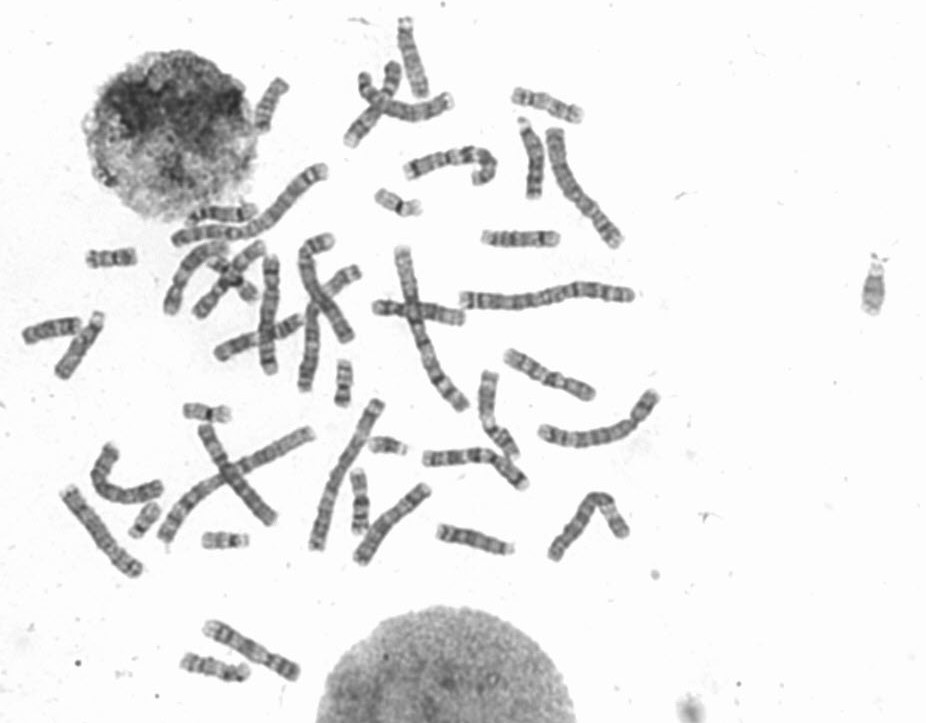chromosomes: (158, 426, 320, 544), (388, 240, 473, 420), (170, 159, 337, 249), (305, 395, 390, 558), (543, 125, 632, 254), (290, 262, 364, 400), (59, 478, 146, 585), (195, 422, 281, 530), (295, 224, 360, 345), (534, 389, 663, 449), (198, 615, 307, 685), (541, 487, 636, 566), (351, 482, 434, 569), (190, 237, 272, 324), (162, 236, 238, 328), (461, 279, 644, 316), (358, 69, 466, 130), (343, 54, 404, 150), (424, 442, 532, 495), (210, 311, 310, 368), (505, 343, 600, 403), (91, 434, 168, 502), (475, 367, 523, 466), (54, 306, 110, 388), (403, 143, 500, 190), (255, 253, 288, 376), (508, 82, 590, 127), (394, 16, 436, 103), (514, 110, 552, 205), (367, 295, 470, 329), (434, 523, 523, 559), (206, 253, 264, 304), (179, 197, 268, 229), (12, 315, 90, 351), (251, 72, 291, 139), (176, 650, 254, 684), (480, 222, 566, 252), (370, 183, 429, 222), (862, 242, 891, 321), (175, 395, 239, 427), (347, 461, 371, 537), (333, 353, 360, 416), (127, 500, 167, 541), (82, 246, 143, 271), (203, 531, 257, 554), (372, 433, 415, 459)
